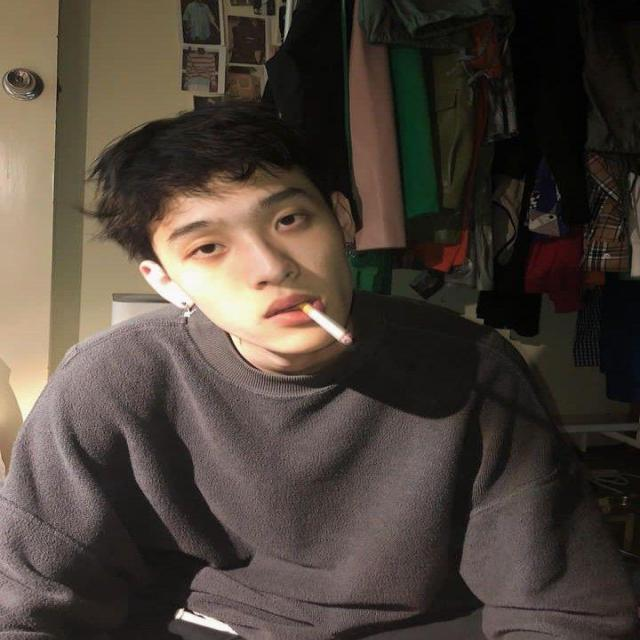cigarette: (282, 293, 363, 354)
